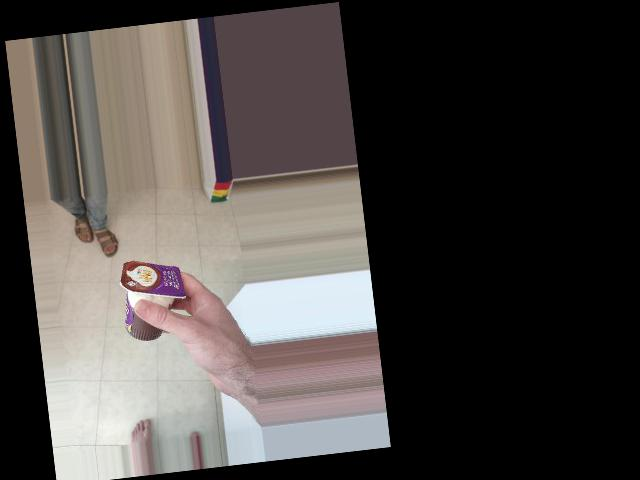milky: (83, 250, 179, 320)
